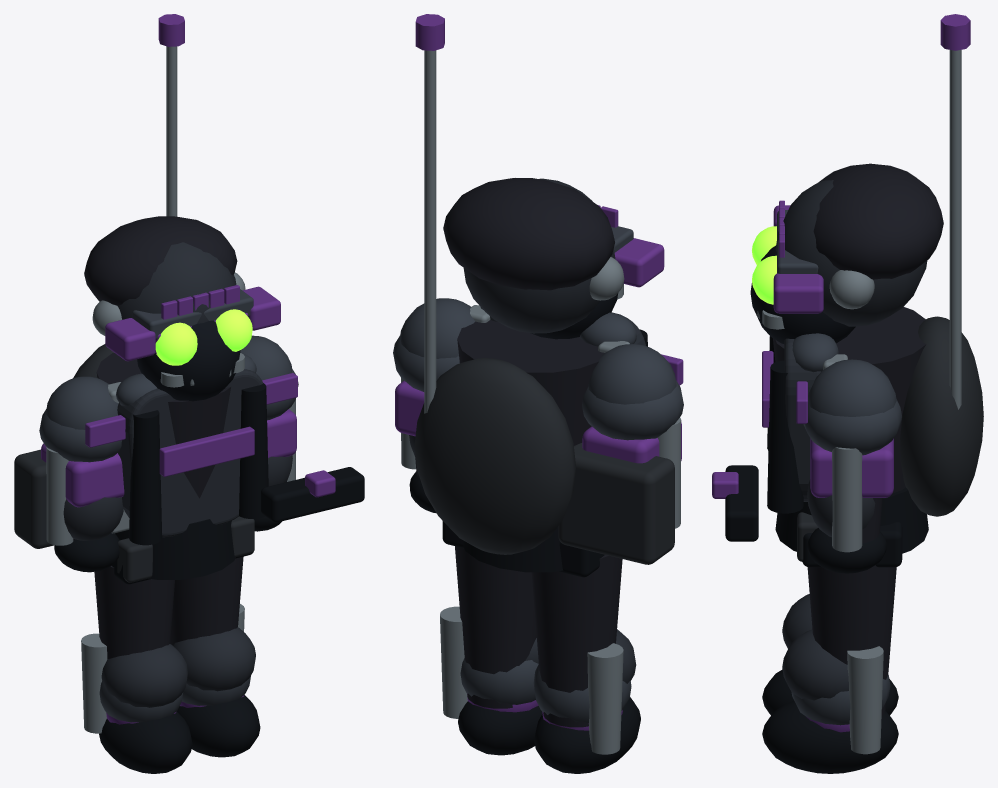
The model's file is recon_l05.glb.
3 renders of one model, left to right at view 1: azimuth 30°, elevation 25°; view 2: azimuth 150°, elevation 25°; view 3: azimuth 270°, elevation 25°, orthographic. The views are drawn at different scales.
Parts seen in each view (by area): view 1: trouser (×2), shaped_knee_guard (×2), rounded_boot (×2), contoured_vest, hood, vest_tether (×2), rounded_helmet, shoulder_joint (×2), enclosed_mask, waist_flex, rank_stripe (×2), body (+21 smaller); view 2: shaped_field_pack, trouser (×2), hood, map_satchel, body, rounded_boot (×2), shoulder_joint (×2), shin_frame (×2), rounded_helmet, shoulder_plate (×2), signal_mast, knee_plate (×2) (+10 smaller); view 3: shaped_field_pack, hood, trouser, rounded_boot (×2), rounded_helmet, body, signal_mast, shaped_knee_guard (×2), shoulder_joint, vest_tether, shin_frame, shoulder_plate (+22 smaller).
Boxes of the visible parts, x1,y1,x2,y2 form: trouser (×2): (94,556,243,659); shaped_knee_guard (×2): (101,627,255,707); rounded_boot (×2): (99,695,260,773); contoured_vest: (117,369,262,537); hood: (84,216,237,305); vest_tether (×2): (129,383,268,545); rounded_helmet: (117,242,236,323); shoulder_joint (×2): (46,335,292,429); enclosed_mask: (137,320,240,401); waist_flex: (115,519,235,579); rank_stripe (×2): (41,409,296,507); body: (96,353,230,498); shaped_field_pack: (414,358,575,554); trouser (×2): (455,546,622,727); hood: (443,178,614,290); map_satchel: (558,443,674,564); body: (457,320,604,445); rounded_boot (×2): (458,697,640,773); shoulder_joint (×2): (400,298,676,404); shin_frame (×2): (440,606,623,754); rounded_helmet: (463,178,615,333); shoulder_plate (×2): (393,335,683,440); signal_mast: (424,50,436,413); knee_plate (×2): (460,658,631,723); shaped_field_pack: (900,316,983,516); hood: (813,163,943,279); trouser: (807,565,896,715); rounded_boot (×2): (762,669,898,773); rounded_helmet: (775,180,927,326); body: (773,307,926,493); signal_mast: (949,50,961,409); shaped_knee_guard (×2): (782,594,848,700); shoulder_joint: (808,359,896,416); vest_tether: (767,360,803,513); shin_frame: (847,646,883,754); shoulder_plate: (803,399,901,455).
Size of the model in its own units: 1.03 by 2.5 by 0.815.
